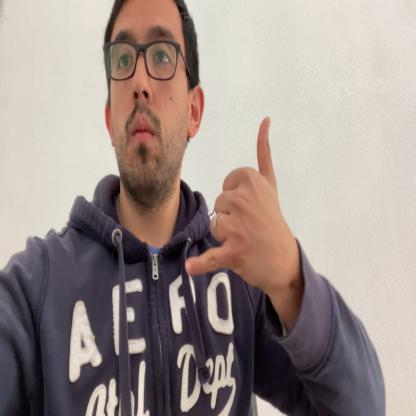Y: (184, 116, 287, 285)
